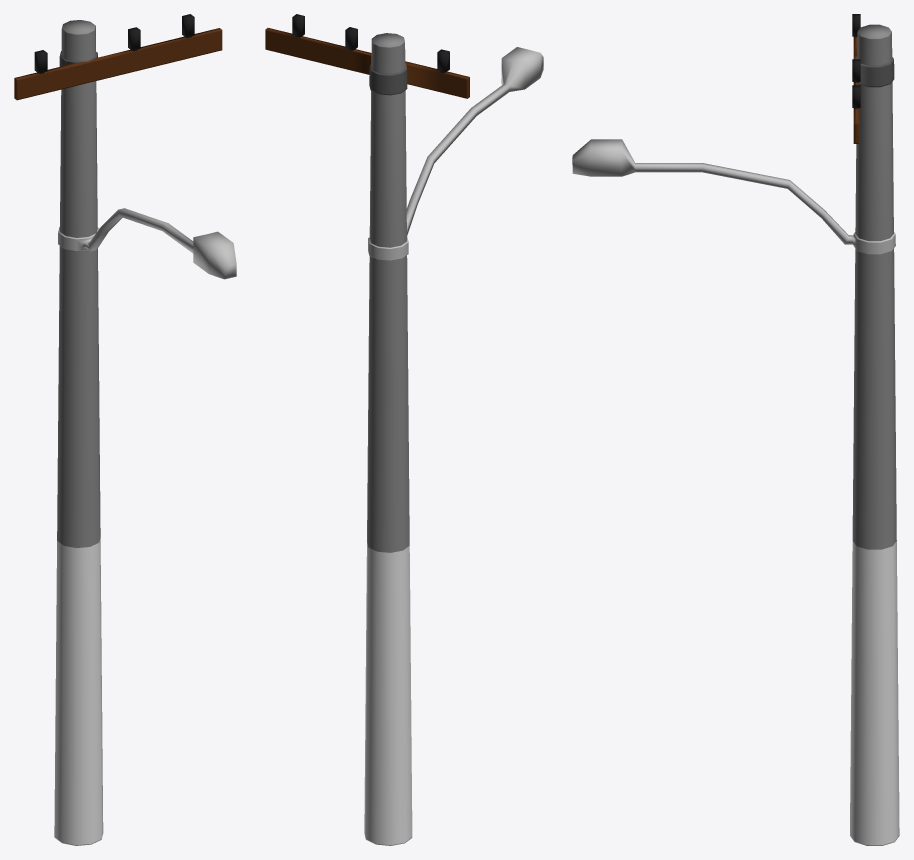
The model's file is MESH_PROP_Poste_Luz_B.fbx.
3 views of the same model, side by side, from view 1: azimuth 30°, elevation 25°; view 2: azimuth 150°, elevation 25°; view 3: azimuth 270°, elevation 25° (orthographic).
Visible parts, largest first — view 1: poste_luz_B; view 2: poste_luz_B; view 3: poste_luz_B.
Part boxes in pixels (x1,y1,x2,y2): poste_luz_B: (14, 14, 236, 845); poste_luz_B: (265, 14, 543, 845); poste_luz_B: (572, 14, 899, 845).
Bounding box in the file's own units: 133 × 500 × 184.
